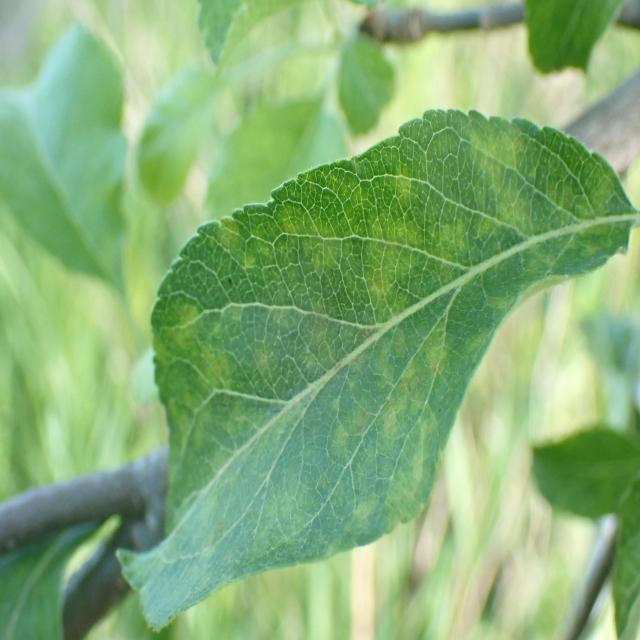scab: (179, 118, 532, 557)
